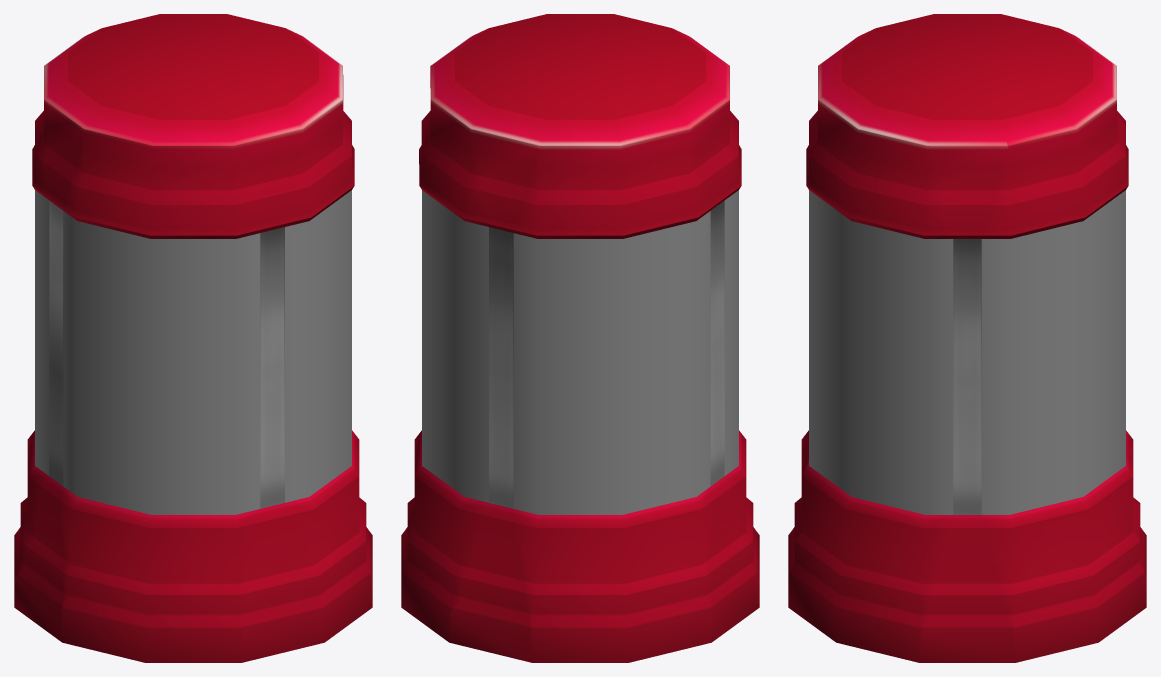
Rendered from hoppang.FBX.
The picture shows the model from 3 angles, left to right: view 1: azimuth 30°, elevation 25°; view 2: azimuth 150°, elevation 25°; view 3: azimuth 270°, elevation 25°; orthographic projection.
Visible parts, largest first — view 1: hoppang, Object; view 2: hoppang, Object; view 3: hoppang, Object.
Boxes of the visible parts, <box> form: hoppang: <box>14,14,372,662</box>; Object: <box>35,190,351,514</box>; hoppang: <box>401,14,759,662</box>; Object: <box>422,190,738,514</box>; hoppang: <box>788,14,1146,662</box>; Object: <box>809,190,1125,514</box>.
Bounding box in the file's own units: 43.71 × 70 × 43.71.
